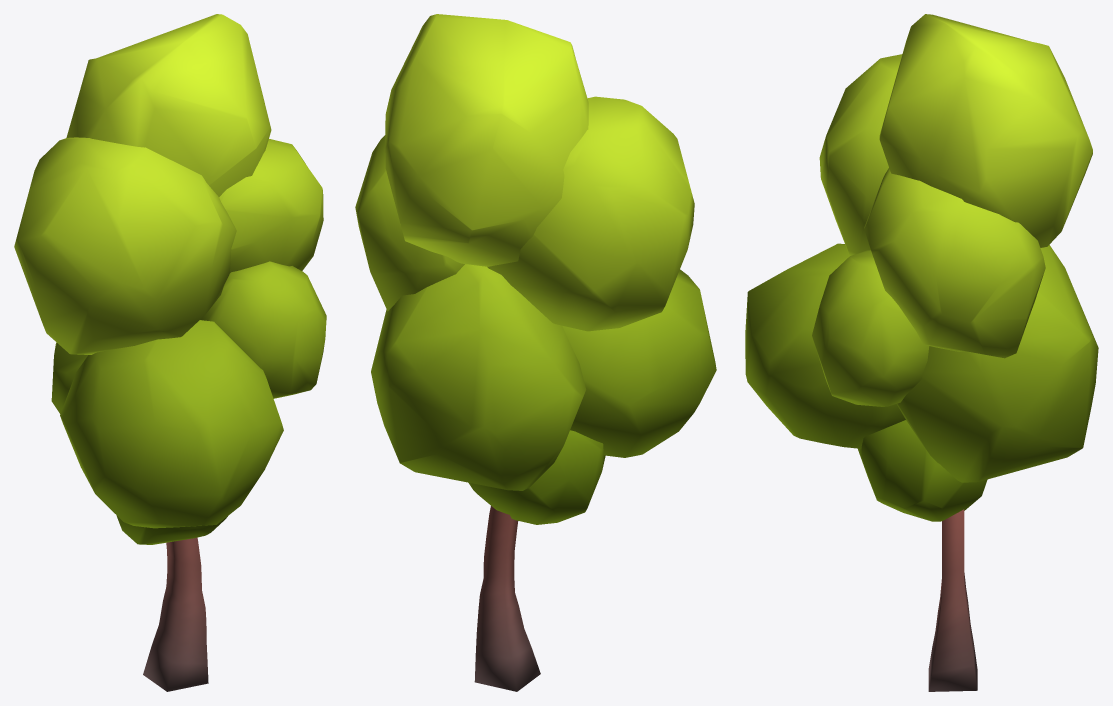
3 renders of one model, left to right at view 1: azimuth 30°, elevation 25°; view 2: azimuth 150°, elevation 25°; view 3: azimuth 270°, elevation 25°, orthographic. The views are drawn at different scales.
Parts seen in each view (by area): view 1: Vert.041; view 2: Vert.041; view 3: Vert.041.
Boxes of the visible parts, <box> form: Vert.041: <box>14,14,326,691</box>; Vert.041: <box>355,14,716,691</box>; Vert.041: <box>745,14,1098,691</box>.
Size of the model in its own units: 2.79 by 5.57 by 2.69.
Materials: 1 (1 with a texture image).
